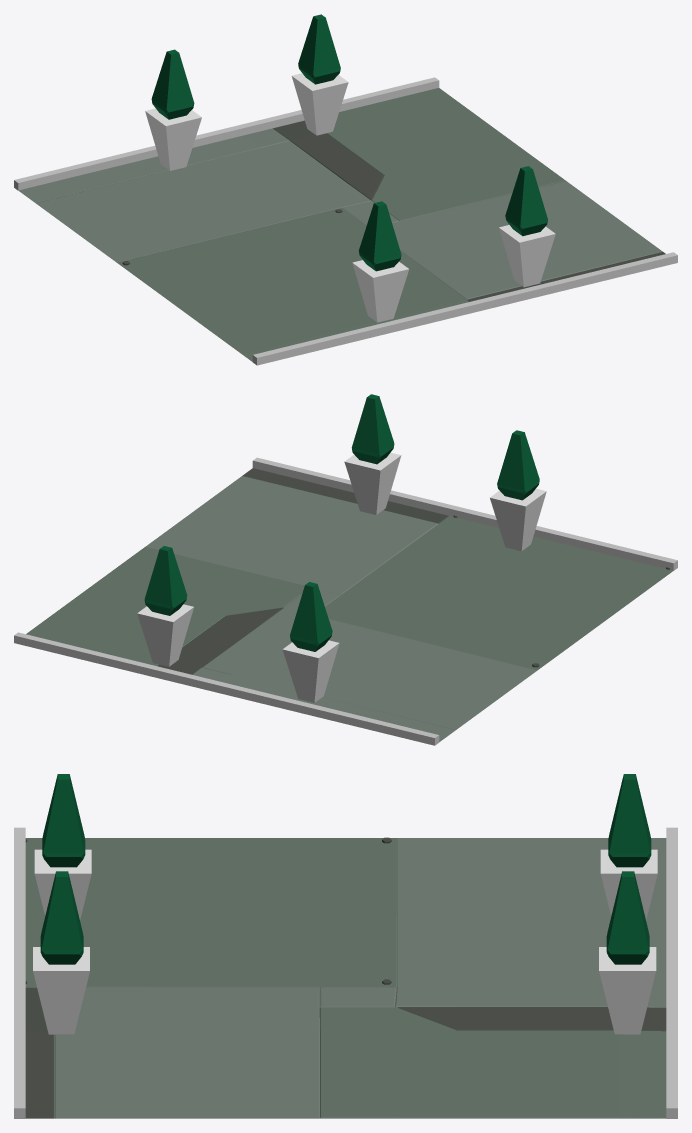
The picture shows the model from 3 angles, top to bottom: view 1: azimuth 30°, elevation 25°; view 2: azimuth 150°, elevation 25°; view 3: azimuth 270°, elevation 25°; orthographic projection. The views are drawn at different scales.
Parts seen in each view (by area): view 1: Scifi_Panel_04_Plaza014_group4.021_Scifi_Panel_04_Plaza014_group, Cube.924_Cube.1049, Cube.923_Cube.1048, base_singlePot01.016_base_singlePot01.022, base_singlePot01.015_base_singlePot01.021, base_singlePot01.017_base_singlePot01.023, base_singlePot01.014_base_singlePot01.020; view 2: Scifi_Panel_04_Plaza014_group4.021_Scifi_Panel_04_Plaza014_group, Cube.923_Cube.1048, Cube.924_Cube.1049, base_singlePot01.014_base_singlePot01.020, base_singlePot01.015_base_singlePot01.021, base_singlePot01.017_base_singlePot01.023, base_singlePot01.016_base_singlePot01.022; view 3: Scifi_Panel_04_Plaza014_group4.021_Scifi_Panel_04_Plaza014_group, base_singlePot01.014_base_singlePot01.020, base_singlePot01.017_base_singlePot01.023, base_singlePot01.015_base_singlePot01.021, base_singlePot01.016_base_singlePot01.022, Cube.924_Cube.1049, Cube.923_Cube.1048.
Boxes of the visible parts, <box> form: Scifi_Panel_04_Plaza014_group4.021_Scifi_Panel_04_Plaza014_group: <box>18,88,665,361</box>; Cube.924_Cube.1049: <box>252,252,677,365</box>; Cube.923_Cube.1048: <box>14,77,439,190</box>; base_singlePot01.016_base_singlePot01.022: <box>352,201,409,322</box>; base_singlePot01.015_base_singlePot01.021: <box>145,49,201,170</box>; base_singlePot01.017_base_singlePot01.023: <box>499,166,555,287</box>; base_singlePot01.014_base_singlePot01.020: <box>291,14,348,135</box>; Scifi_Panel_04_Plaza014_group4.021_Scifi_Panel_04_Plaza014_group: <box>26,468,673,741</box>; Cube.923_Cube.1048: <box>14,632,439,745</box>; Cube.924_Cube.1049: <box>252,457,677,570</box>; base_singlePot01.014_base_singlePot01.020: <box>137,546,193,666</box>; base_singlePot01.015_base_singlePot01.021: <box>282,582,339,702</box>; base_singlePot01.017_base_singlePot01.023: <box>344,394,401,514</box>; base_singlePot01.016_base_singlePot01.022: <box>490,430,546,551</box>; Scifi_Panel_04_Plaza014_group4.021_Scifi_Panel_04_Plaza014_group: <box>25,837,666,1118</box>; base_singlePot01.014_base_singlePot01.020: <box>599,871,656,1034</box>; base_singlePot01.017_base_singlePot01.023: <box>33,871,89,1034</box>; base_singlePot01.015_base_singlePot01.021: <box>600,774,657,920</box>; base_singlePot01.016_base_singlePot01.022: <box>34,774,91,919</box>; Cube.924_Cube.1049: <box>14,827,25,1118</box>; Cube.923_Cube.1048: <box>666,827,677,1118</box>.
Size of the model in its own units: 10 by 2.59 by 10.
